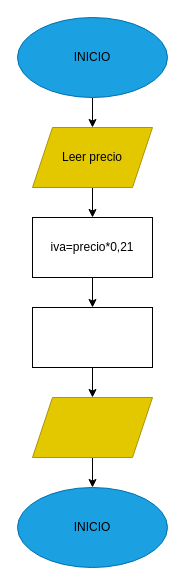
Image size: 185x585. Some labels were removed from this diagram. The box of each missing label's shape, as (x1, y1, x2, y2) in pixels:
Escribir total: (32, 396, 152, 458)
total=precio+iva: (32, 306, 152, 368)
